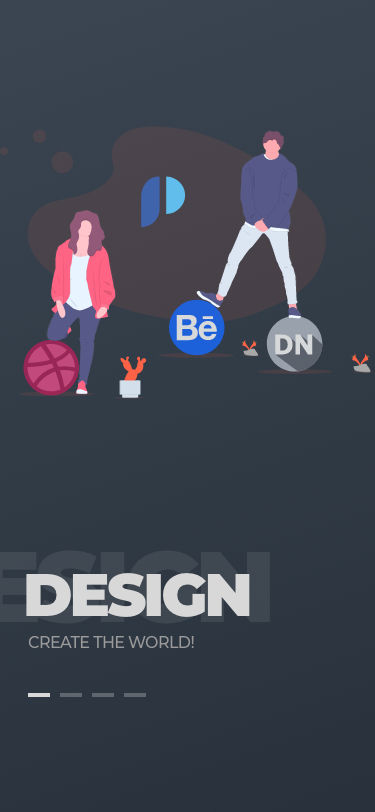Image: (1, 126, 375, 400)
PageIndicator: (28, 692, 147, 698)
Text: (26, 573, 251, 618), (29, 635, 195, 649)
